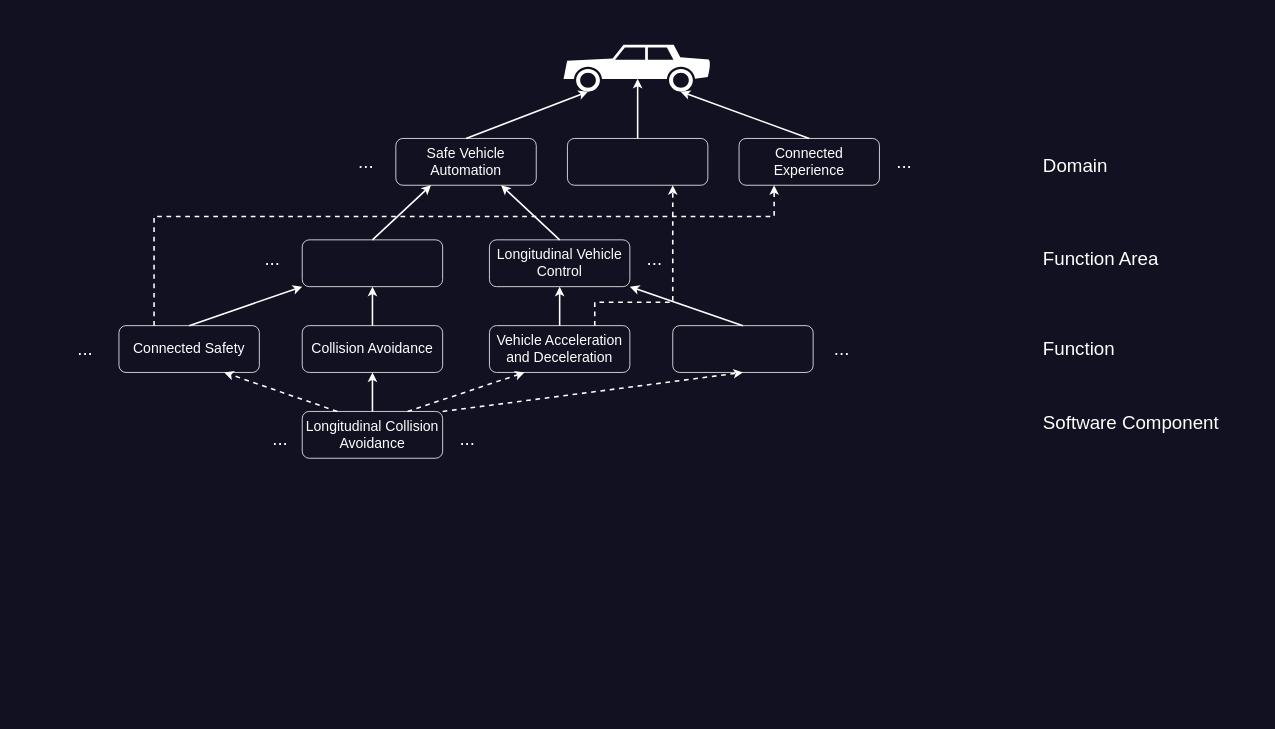
Image size: 1275x729. Some labels were removed from this diagram. Here are the shapes that lost their labels. From the top down, the centre of each, then its label:
At pixel 637 161: "Propulsion".
At pixel 372 263: "Active Safety".
At pixel 742 348: "Driver Intended Movement".
